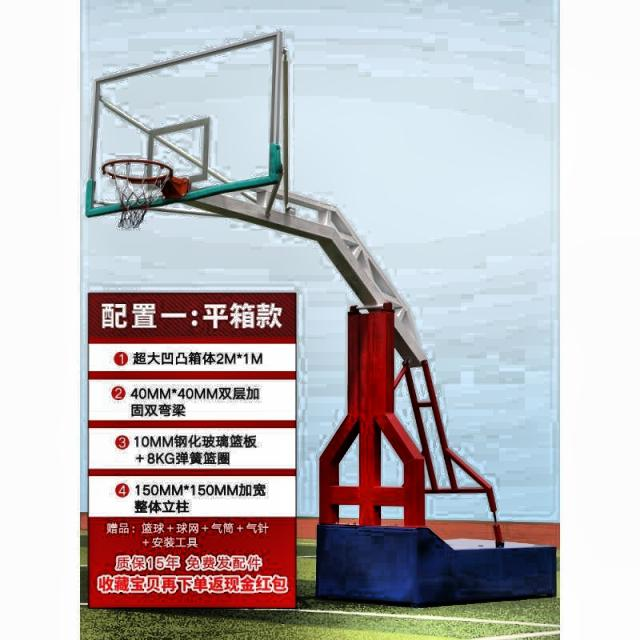rim: (102, 158, 174, 231)
